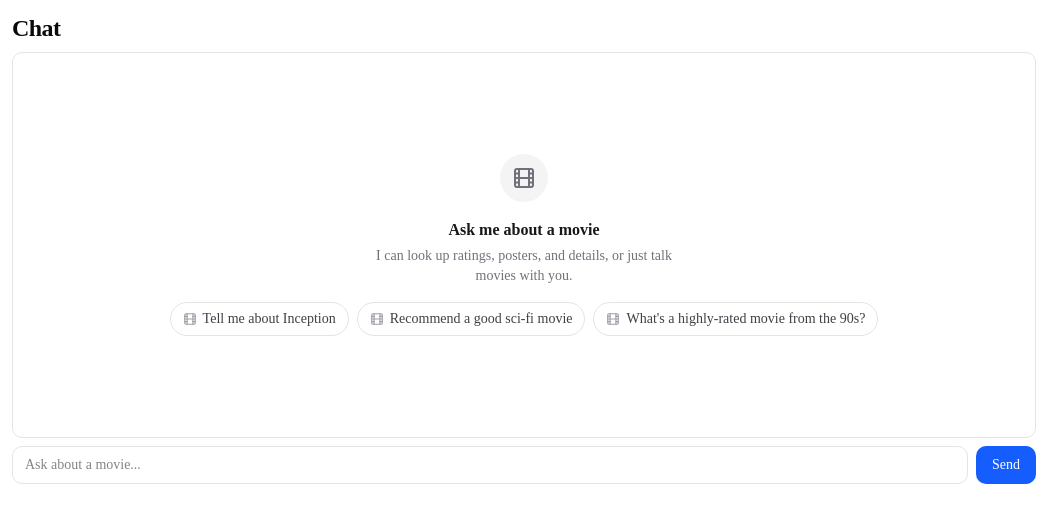
Test: ChatPage input validation › clears the validation error once the user starts typing again
The width and height of the screenshot is (1048, 524).
Click the button "Send" at (1006, 465), box [976,446,1036,484]
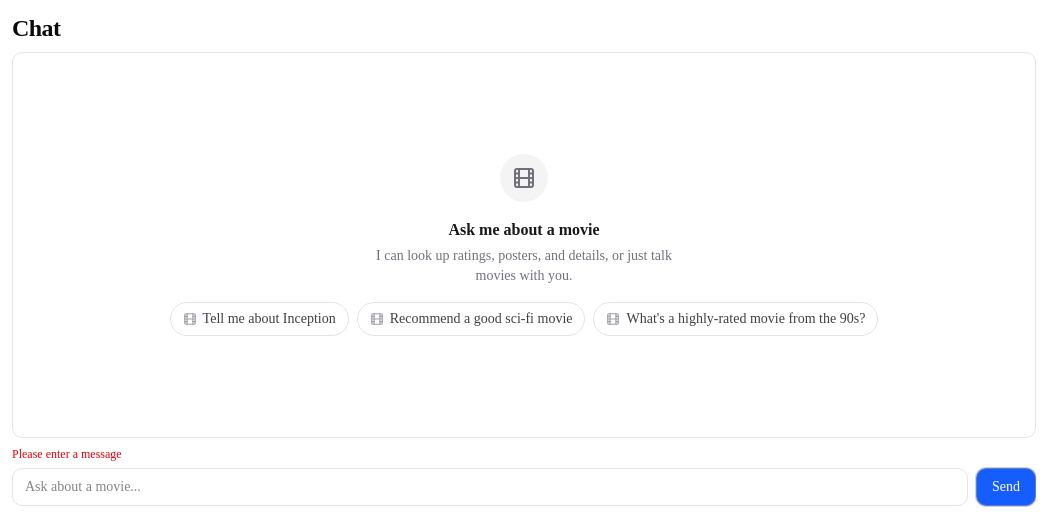
Now the message reads "Please enter a message", box [12,447,122,461]
Type "H" into the field named "message" at (490, 487), box [12,468,968,506]
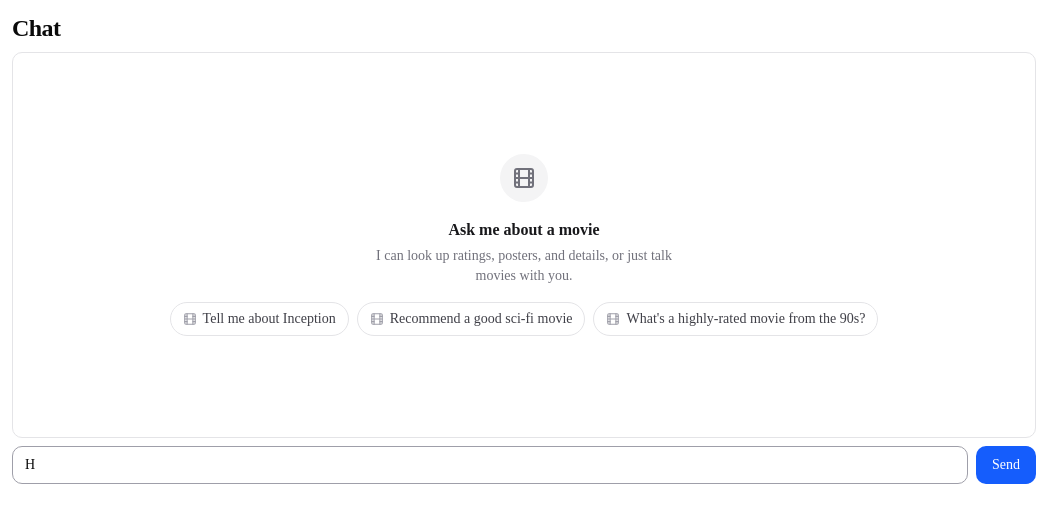
Now the message "Please enter a message" is gone
